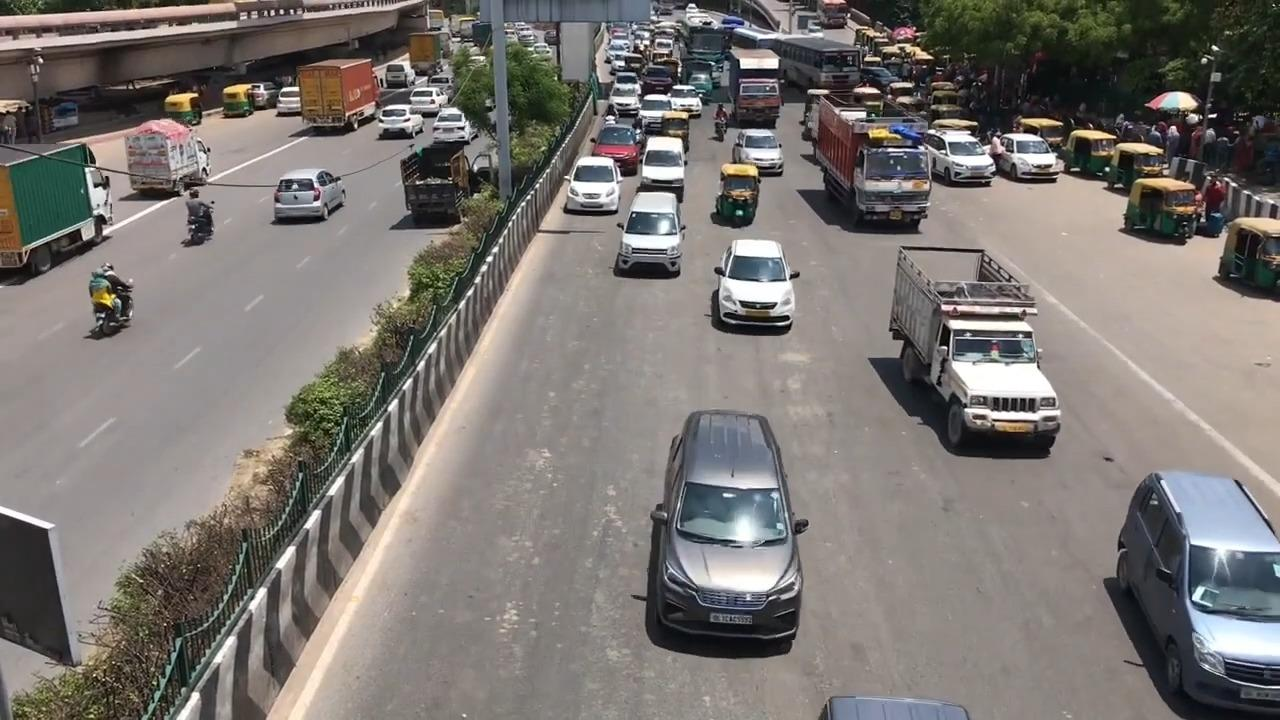Auto: (1122, 176, 1201, 241), (1217, 216, 1279, 291), (714, 163, 760, 226), (163, 91, 203, 125)
Bike: (85, 258, 140, 338), (183, 184, 216, 251)
Truck: (888, 244, 1062, 448), (812, 92, 932, 230), (0, 141, 114, 275), (123, 119, 211, 196), (399, 142, 482, 221), (296, 57, 379, 131), (726, 48, 782, 128)
